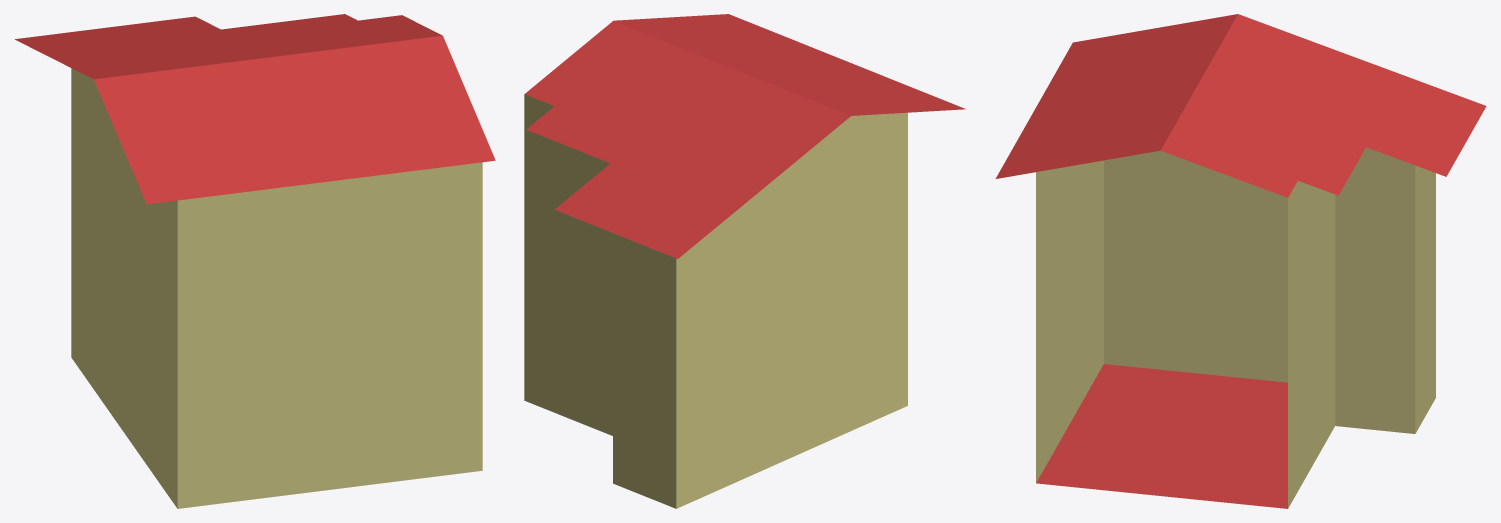
3 renders of one model, left to right at view 1: azimuth 30°, elevation 25°; view 2: azimuth 150°, elevation 25°; view 3: azimuth 270°, elevation 25°, orthographic. The views are drawn at different scales.
Bounding box in the file's own units: 7.04 × 8.79 × 6.82.
